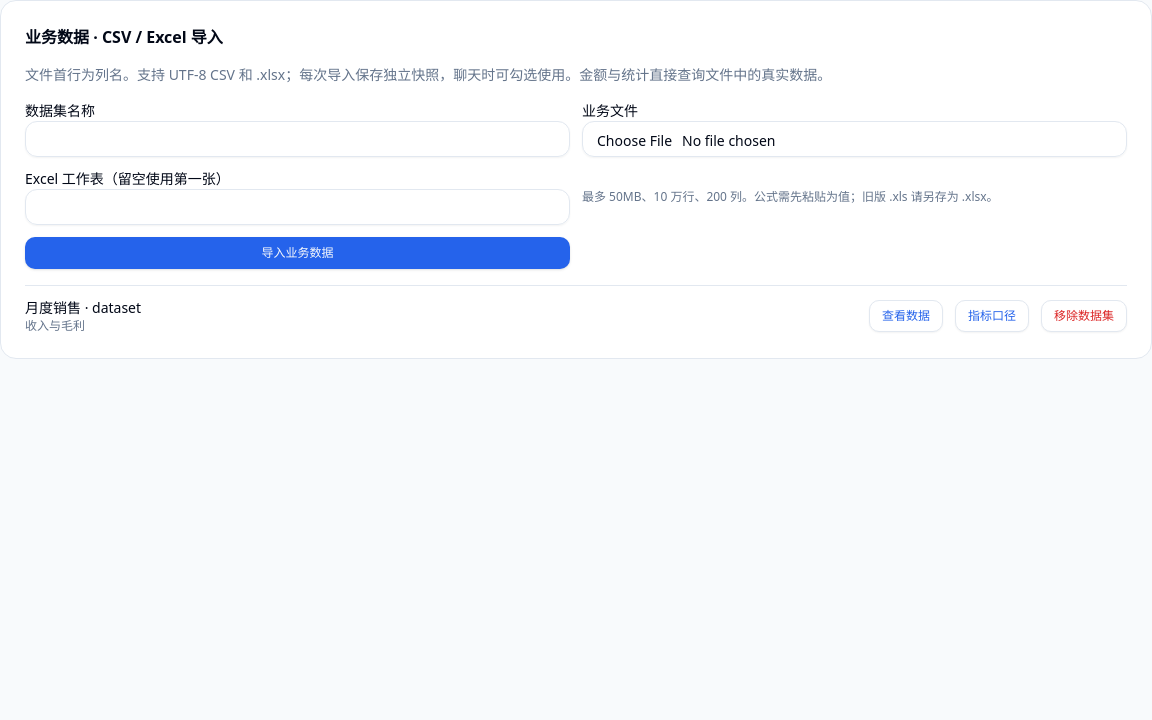
Test case: business data controls › renders queried amounts as table cells without changing precision or hiding truncation
Click the button "查看数据": click(906, 316) [869,300,943,332]
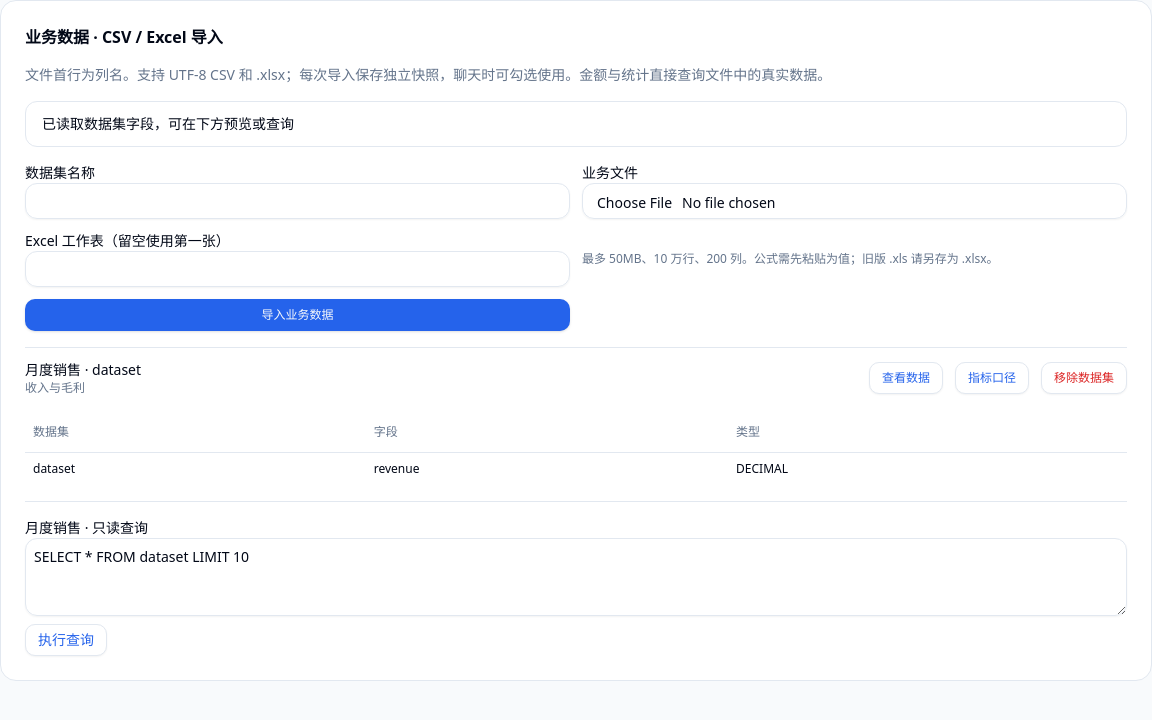
Click the button "执行查询": click(66, 640) [25,624,107,656]
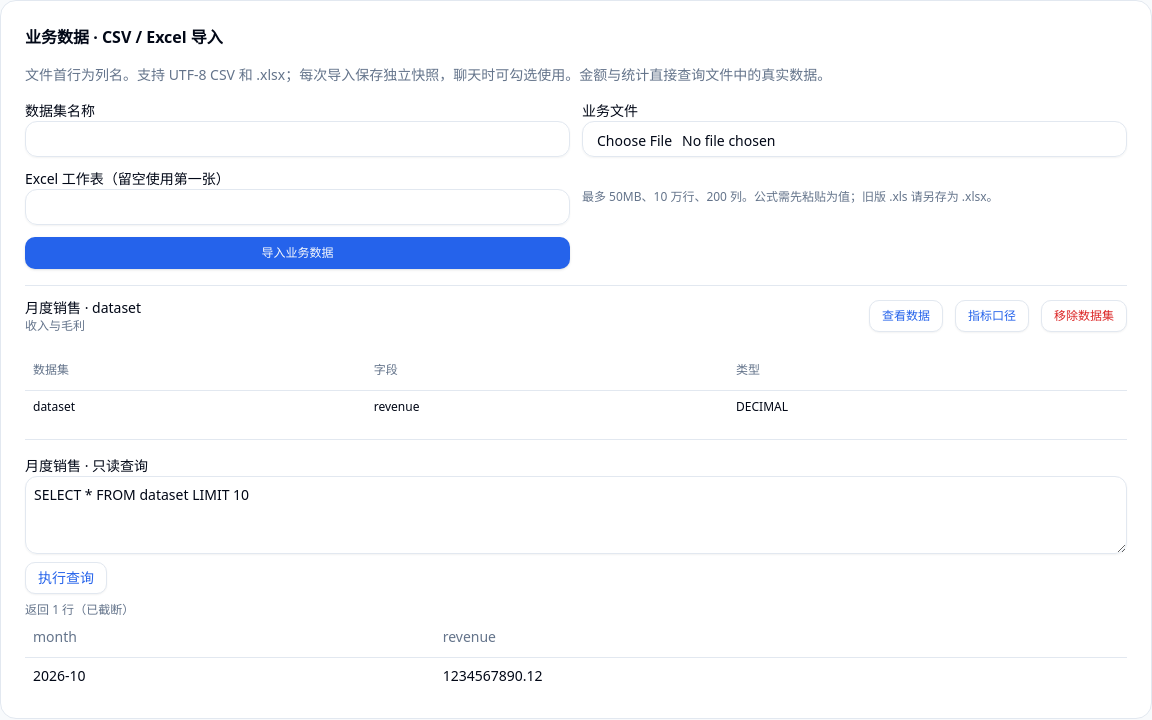
Expected: the table named "业务查询结果" shows "1234567890.12", [443,666,543,685]
Expected: the text "返回 1 行（已截断）" is shown, [25,600,134,618]
